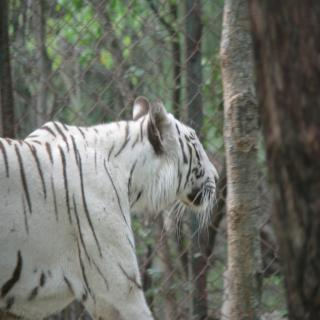Tiger: (0, 98, 218, 319)
